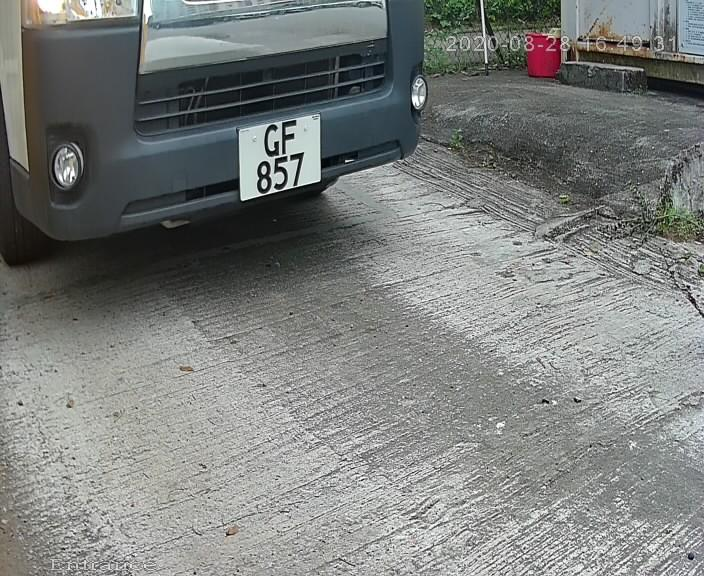License Plate: (230, 109, 331, 206)
